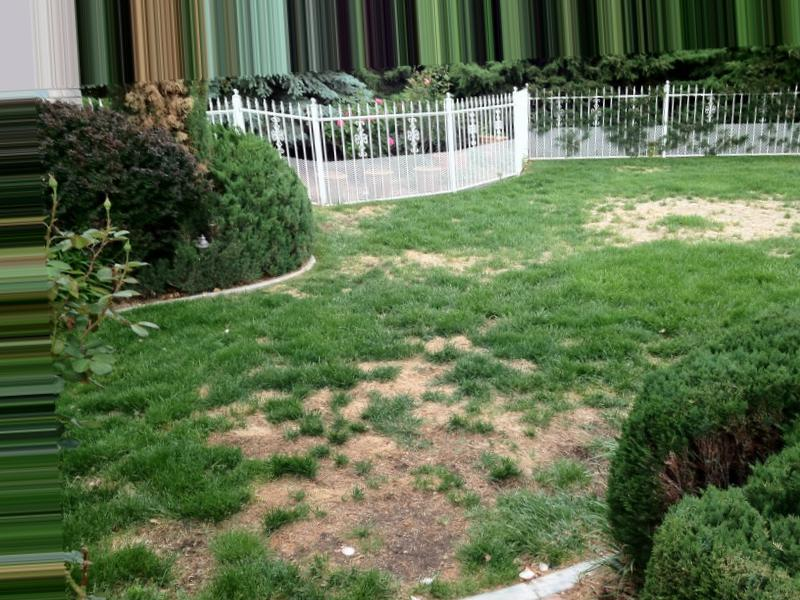patch: (365, 487, 453, 542), (300, 490, 343, 546), (389, 449, 440, 481)
